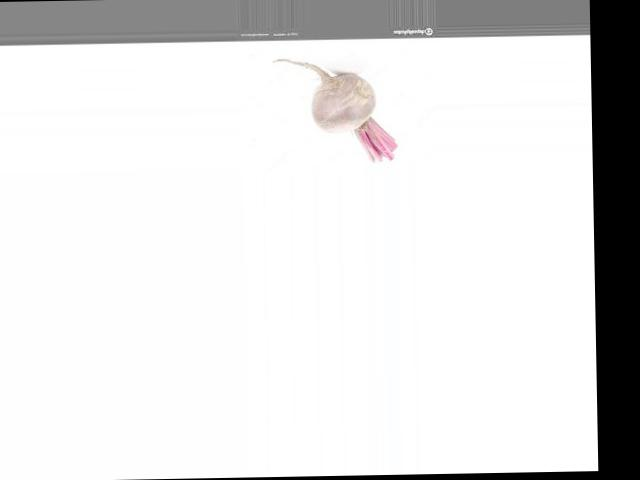beet: (272, 57, 397, 163)
